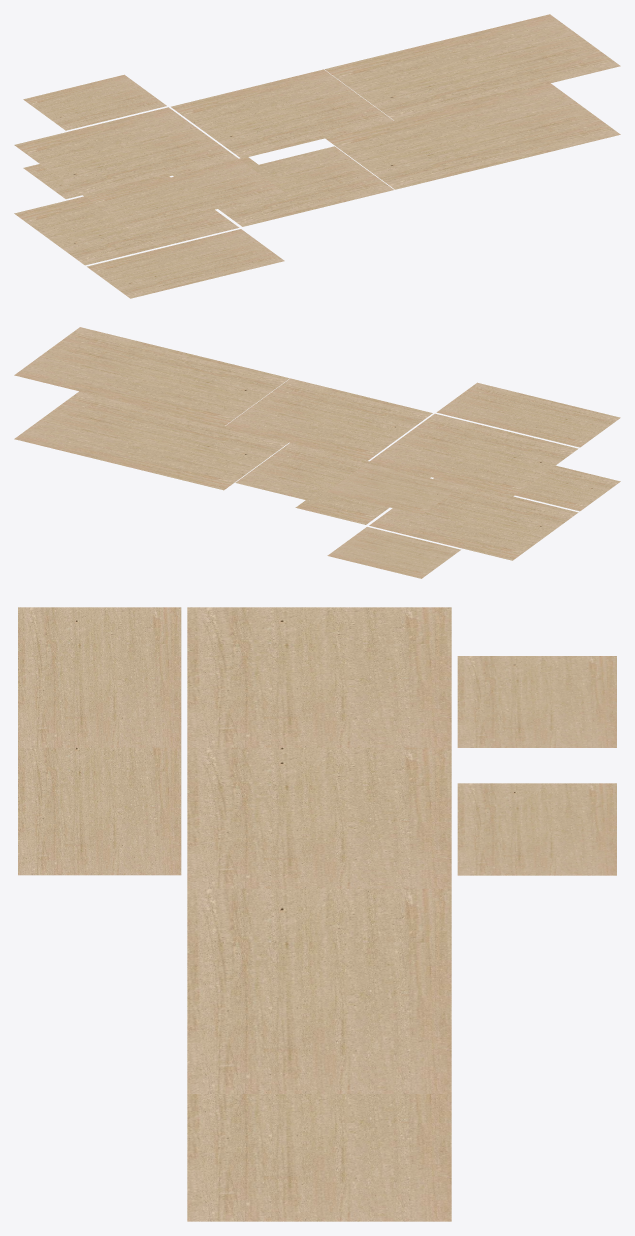
Rendered from techo.obj.
3 views of the same model, one above another, from view 1: azimuth 30°, elevation 25°; view 2: azimuth 150°, elevation 25°; view 3: azimuth 270°, elevation 25° (orthographic). The views are drawn at different scales.
Visible parts, largest first — view 1: pPlane10; view 2: pPlane10; view 3: pPlane10.
Part boxes in pixels (x1,y1,x2,y2): pPlane10: (14, 14, 620, 298); pPlane10: (14, 327, 620, 578); pPlane10: (18, 607, 616, 1221).
Size of the model in its own units: 139 by 17.01 by 72.38.
Materials: 1 (1 with a texture image).
